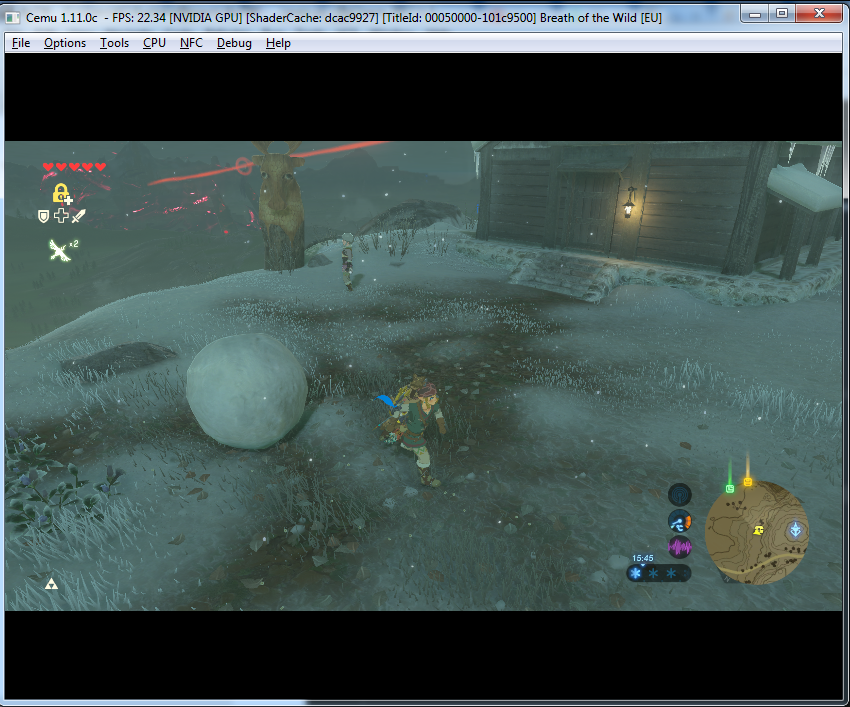dude: (332, 226, 373, 297)
link: (373, 369, 456, 493)
snowball: (174, 321, 319, 462)
totem: (244, 137, 318, 274)
